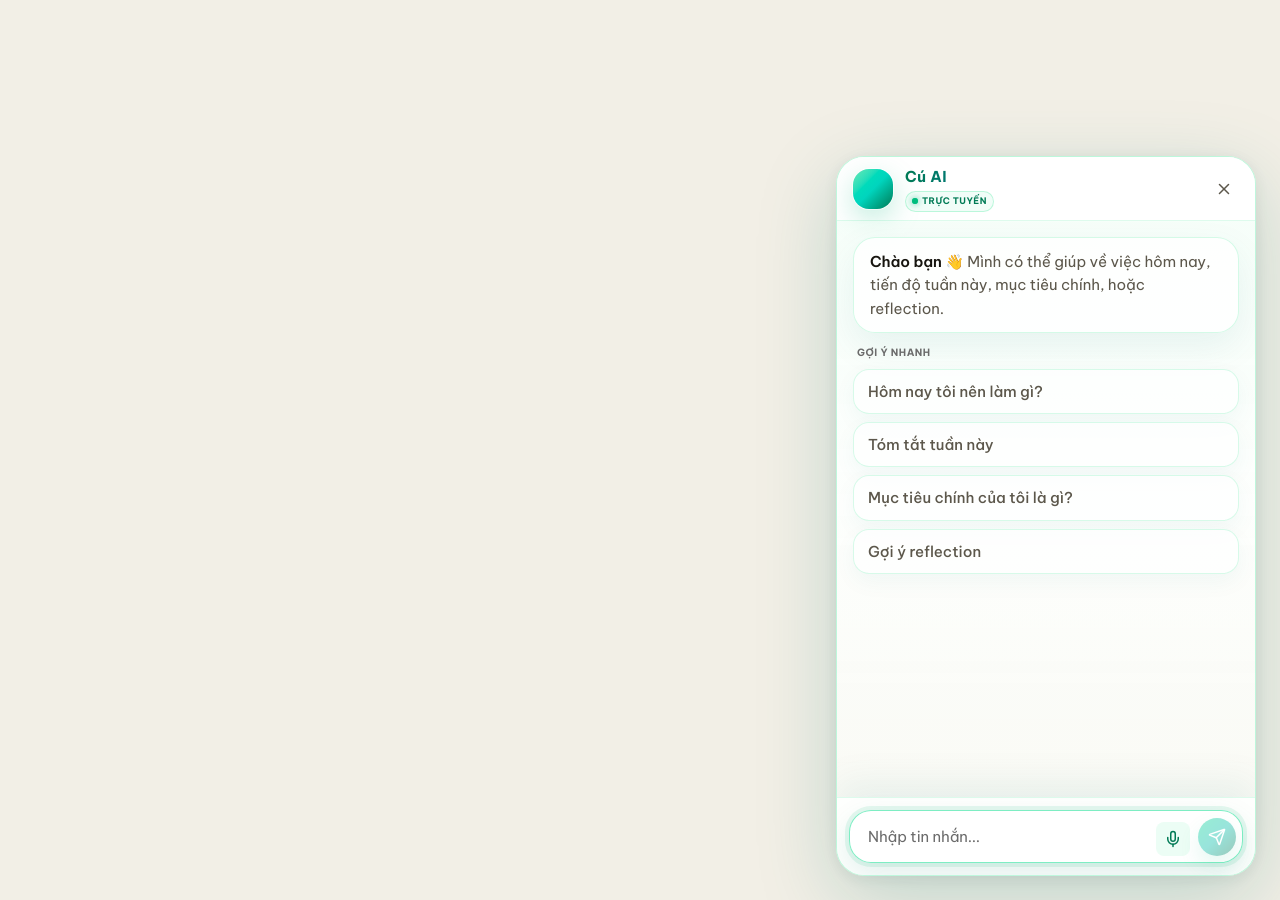
Test: AssistantPanel › sends a suggestion and shows the assistant response
Click the button "Hôm nay tôi nên làm gì?": x=955, y=391 top-left (853, 369), bottom-right (1239, 414)
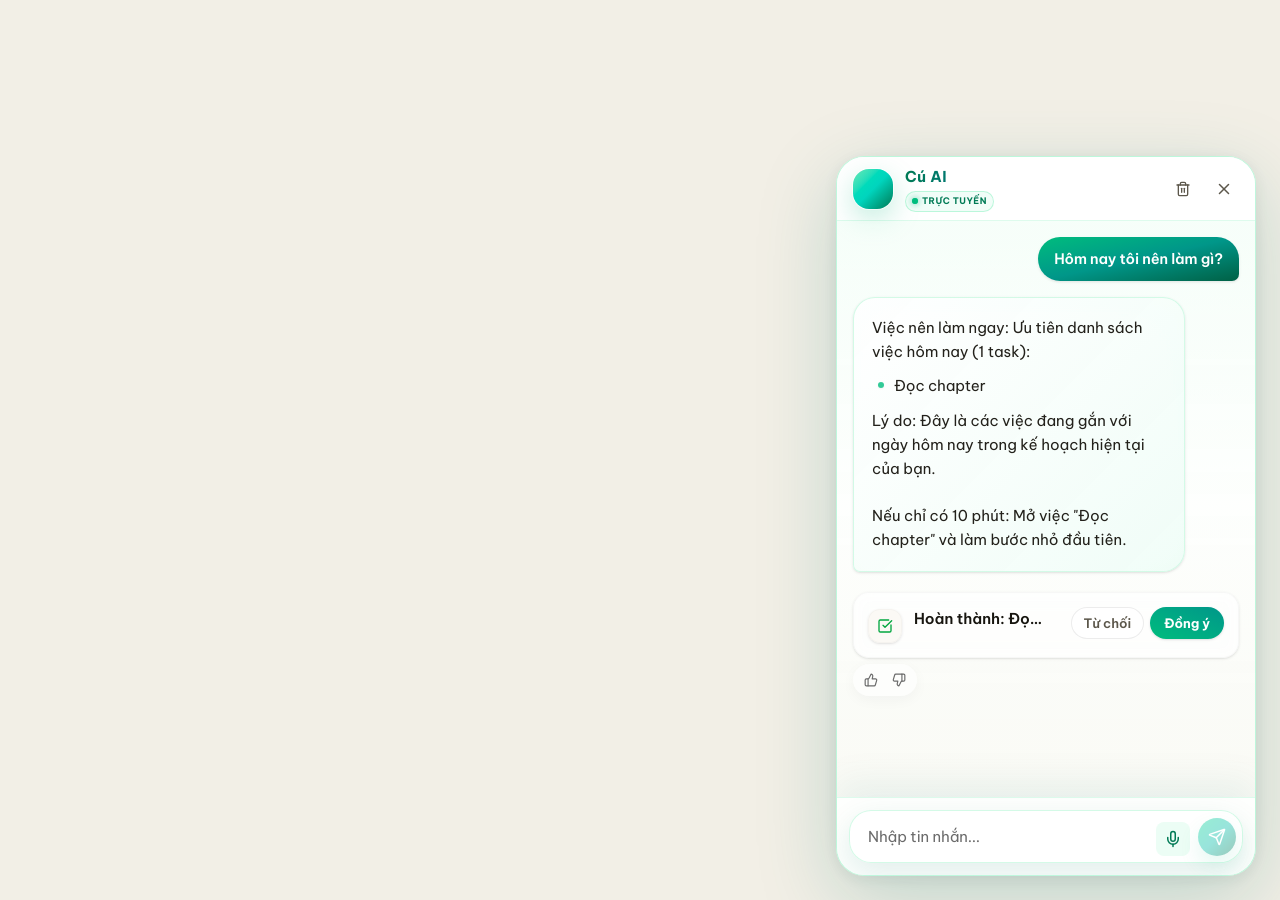
expect the text "Hôm nay tôi nên làm gì?" is shown: met, box top-left (1054, 249), bottom-right (1223, 268)
expect the text "Việc nên làm ngay: Ưu tiên danh sách việc hôm nay (1 task):" is shown: met, box top-left (872, 316), bottom-right (1166, 364)
